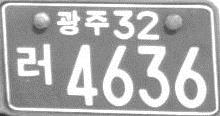2: (135, 9, 160, 41)
3: (136, 45, 171, 108), (111, 8, 135, 42)
4: (64, 42, 98, 106)
6: (173, 45, 207, 108), (101, 46, 133, 108)
광주_O: (55, 8, 109, 37)
러: (15, 42, 53, 87)
